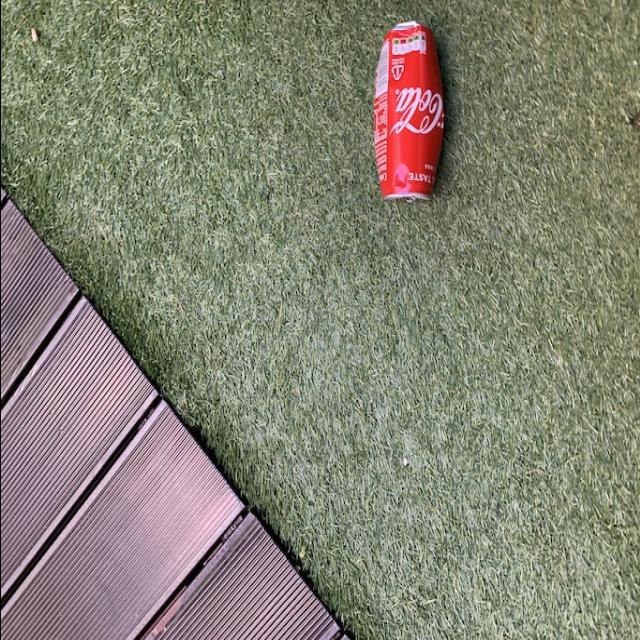Aluminum Can: (366, 22, 444, 210)
